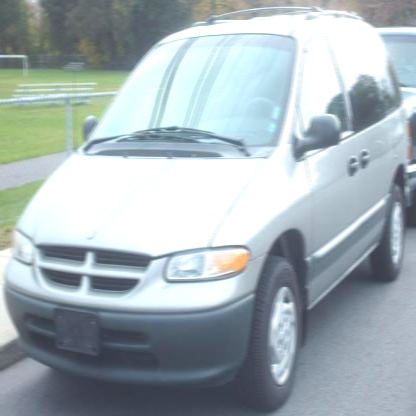Vehicle: (4, 8, 408, 414)
